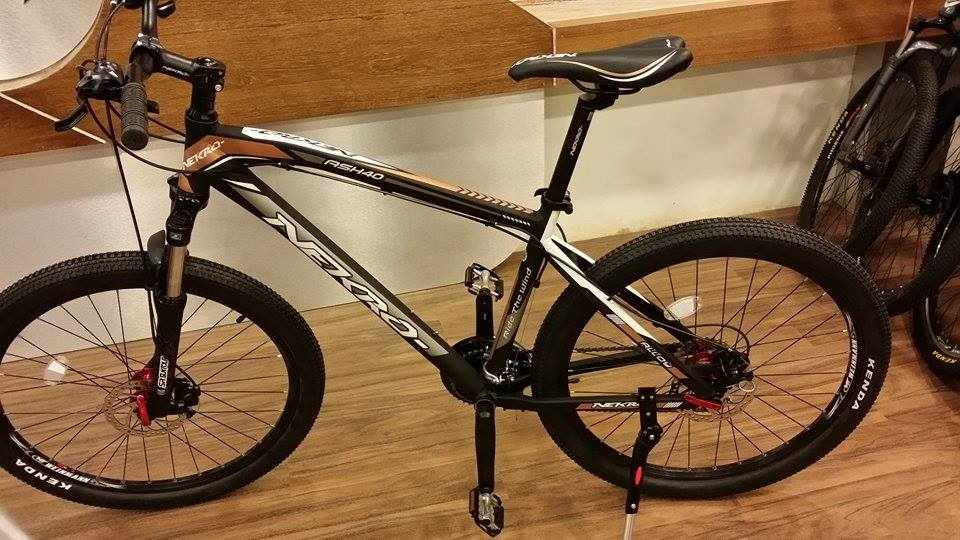bicycle: (1, 1, 888, 512)
